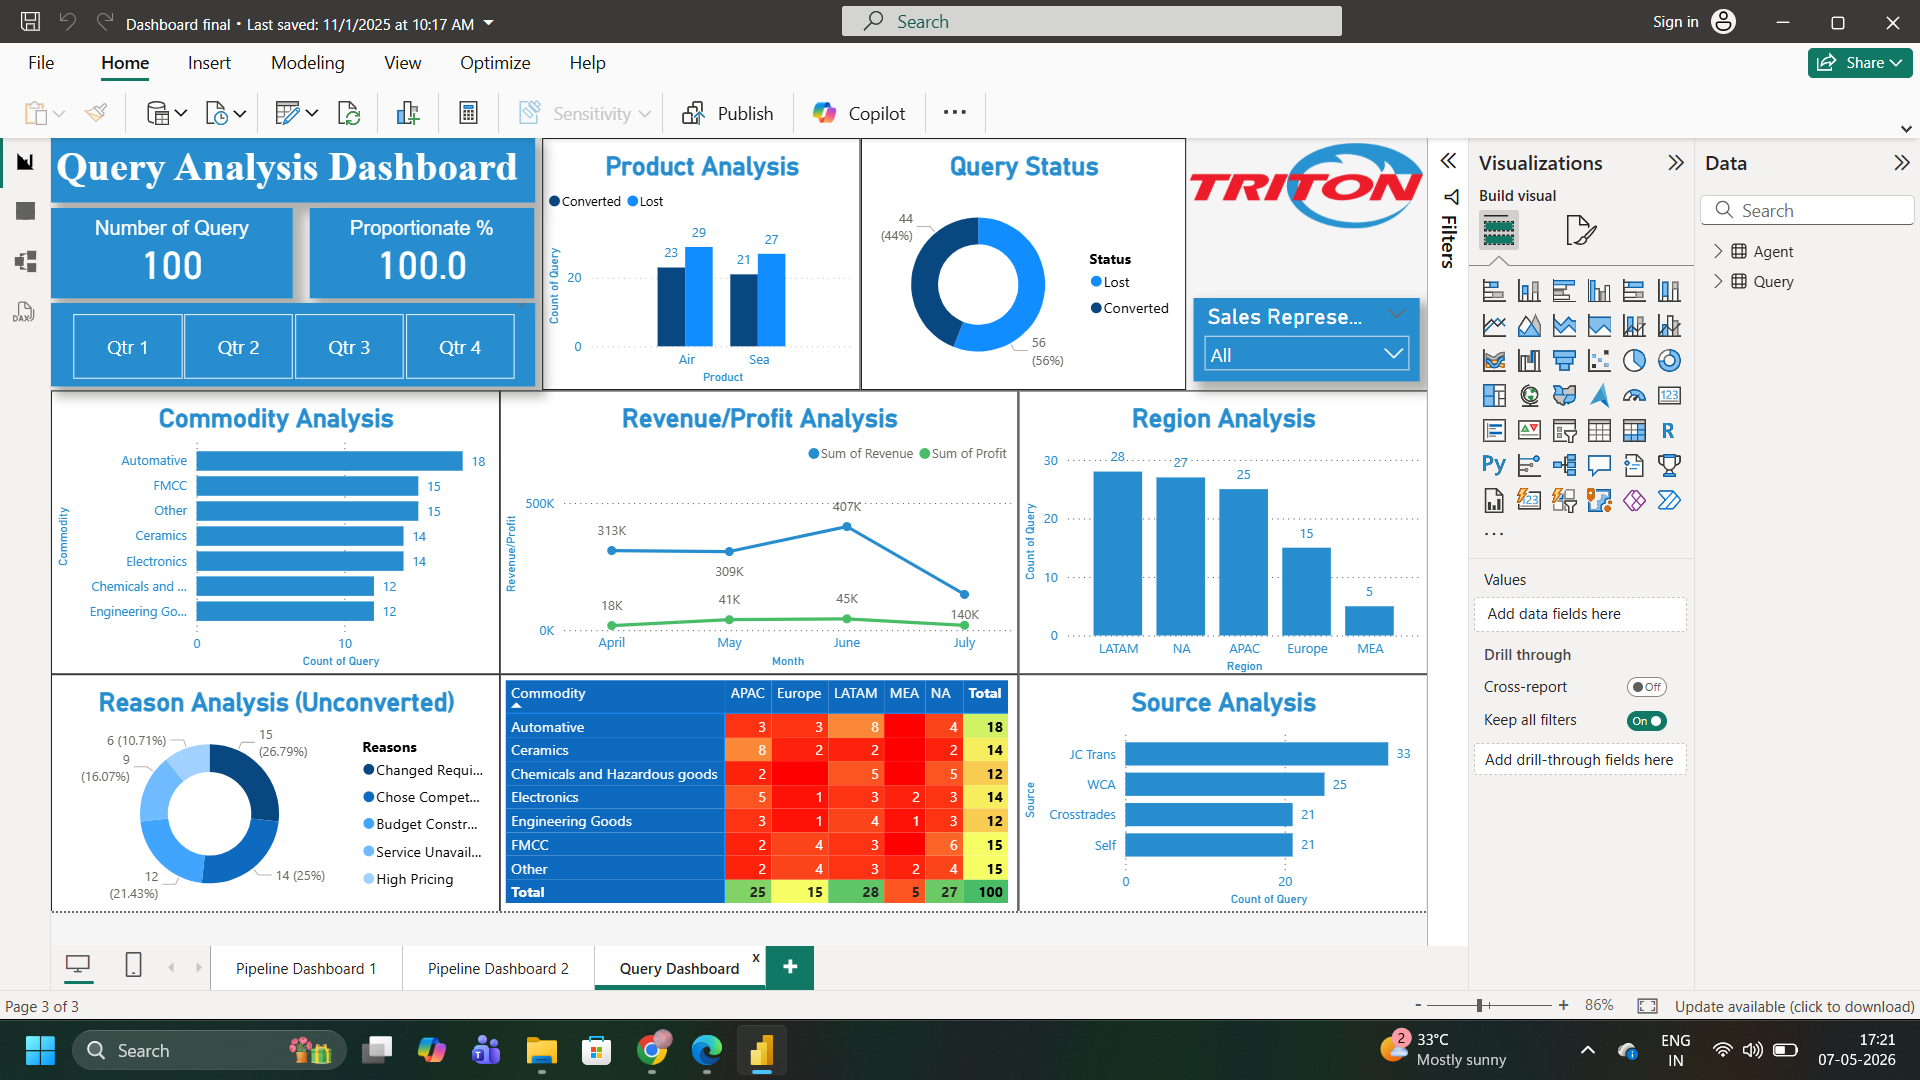

What the dashboard file says about the page in this screenshot:
{"tool":"powerbi","page":{"name":"Query Dashboard ","canvas":[1280,720],"ordinal":2},"visuals":[{"type":"barChart","title":"Source Analysis","fields":{"Category":["Query.Source"],"Y":["CountNonNull(Query.Query ID)"]},"box":[900.3,498.7,380.5,221.8],"z":0},{"type":"donutChart","title":"Query Status","fields":{"Category":["Query.Status"],"Y":["CountNonNull(Query.Query ID)"]},"box":[752.9,0,302.8,234.8],"z":1000},{"type":"clusteredBarChart","title":"Commodity Analysis","fields":{"Category":["Query.Commodity"],"Y":["CountNonNull(Query.Query ID)"]},"box":[0,234.8,417.8,263.9],"z":2000},{"type":"clusteredColumnChart","title":"Product Analysis","fields":{"Category":["Query.Mode"],"Y":["CountNonNull(Query.Query ID)"],"Series":["Query.Status"]},"box":[456.6,0,296.3,234.8],"z":3000},{"type":"columnChart","title":"Region Analysis","fields":{"Category":["Query.Region"],"Y":["CountNonNull(Query.Query ID)"]},"box":[900.3,234.8,380.5,263.9],"z":4000},{"type":"lineChart","title":"Revenue/Profit Analysis","fields":{"Y":["Sum(Query.Revenue)","Sum(Query.Profit)"],"Category":["Query.Date(Quotation Sent).Variation.Date Hierarchy.Month"]},"box":[417.8,234.8,482.5,263.9],"z":5000},{"type":"textbox","box":[0,0,450.1,59.9],"z":6000},{"type":"donutChart","title":"Reason Analysis (Unconverted)","fields":{"Y":["CountNonNull(Query.Lead ID)"],"Category":["Query.Reasons"]},"box":[0,498.7,417.8,221.8],"z":7000},{"type":"card","title":"Number of Query","fields":{"Values":["CountNonNull(Query.Query ID)"]},"box":[0,65,225.1,84.2],"z":8000},{"type":"card","title":"Proportionate %","fields":{"Values":["Query.%"]},"box":[241.3,65,208.9,84.2],"z":9000},{"type":"image","box":[1054.1,0,226.7,89.1],"z":10000},{"type":"slicer","fields":{"Values":["Query.Sales Rep"]},"box":[1062.2,149,210.5,77.7],"z":11000},{"type":"pivotTable","title":"Region Analysis","fields":{"Values":["CountNonNull(Query.Query ID)"],"Columns":["Query.Region"],"Rows":["Query.Commodity"]},"box":[417.8,498.7,482.5,221.8],"z":12000},{"type":"slicer","fields":{"Values":["Query.Date(Quotation Sent).Variation.Date Hierarchy.Quarter"]},"box":[0,153,450.1,77.7],"z":13000}]}

Visuals, with their boxes on the page's 1280x720 design canvas (x1, y1, x2, y2). These are canvas units, not pixel positions in the 1920x1080 screenshot, which may show the page scaled, cropped or inside an application window:
"Source Analysis" barChart: 900,499,1281,720
"Query Status" donutChart: 753,0,1056,235
"Commodity Analysis" clusteredBarChart: 0,235,418,499
"Product Analysis" clusteredColumnChart: 457,0,753,235
"Region Analysis" columnChart: 900,235,1281,499
"Revenue/Profit Analysis" lineChart: 418,235,900,499
textbox: 0,0,450,60
"Reason Analysis (Unconverted)" donutChart: 0,499,418,720
"Number of Query" card: 0,65,225,149
"Proportionate %" card: 241,65,450,149
image: 1054,0,1281,89
slicer - Query.Sales Rep: 1062,149,1273,227
"Region Analysis" pivotTable: 418,499,900,720
slicer - Query.Date(Quotation Sent).Variation.Date Hierarchy.Quarter: 0,153,450,231
